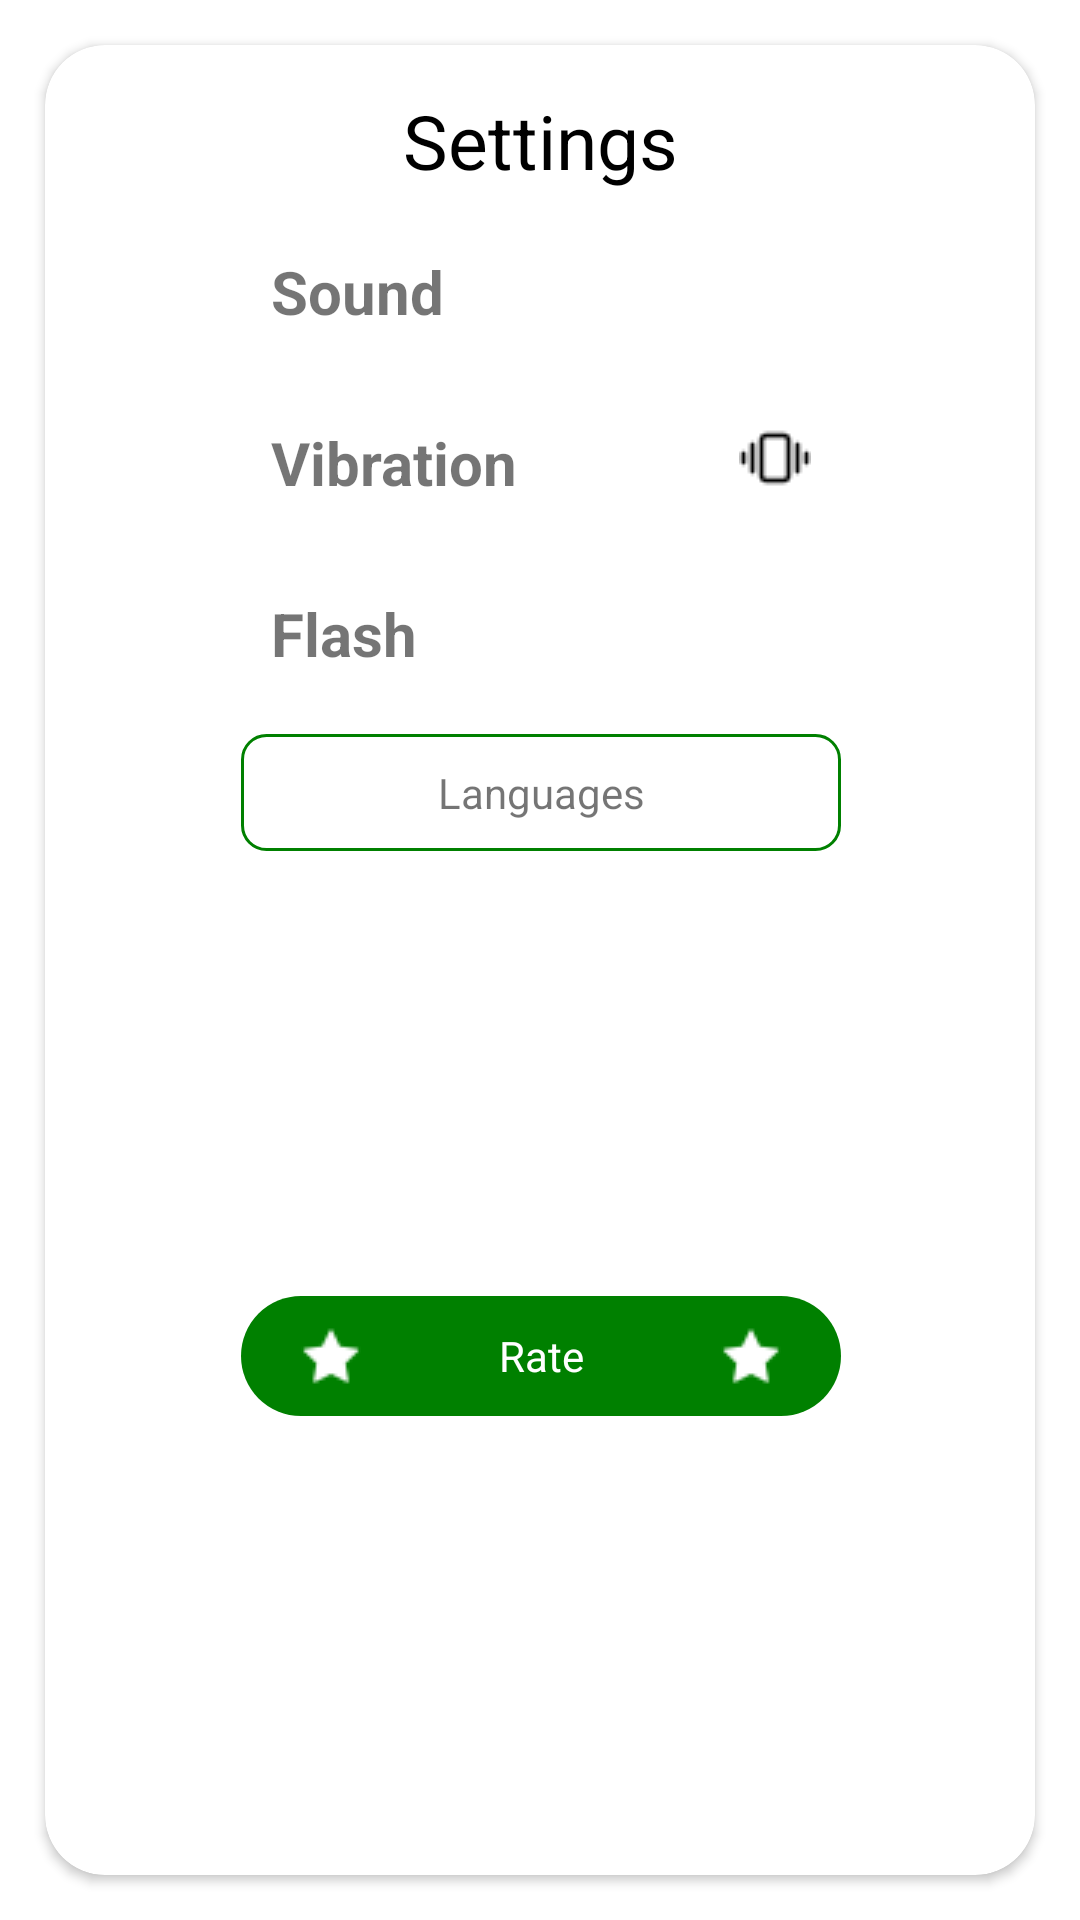

Point at icon controls on the screen. Image size 1080px×1920px, points as (x=x, y=y).
vibrate: (x=775, y=458)
